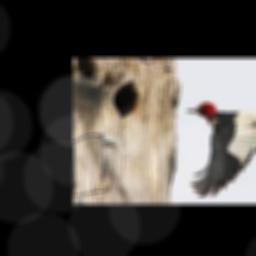Woodpecker: (187, 103, 256, 197)
